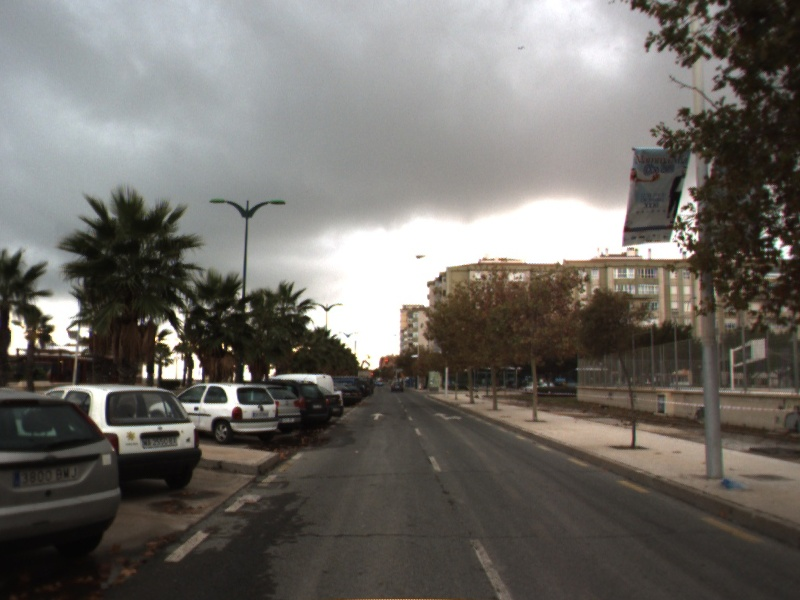STRAIGHT: (369, 411, 386, 422)
STRAIGHT_RIGHT: (432, 411, 464, 422)
